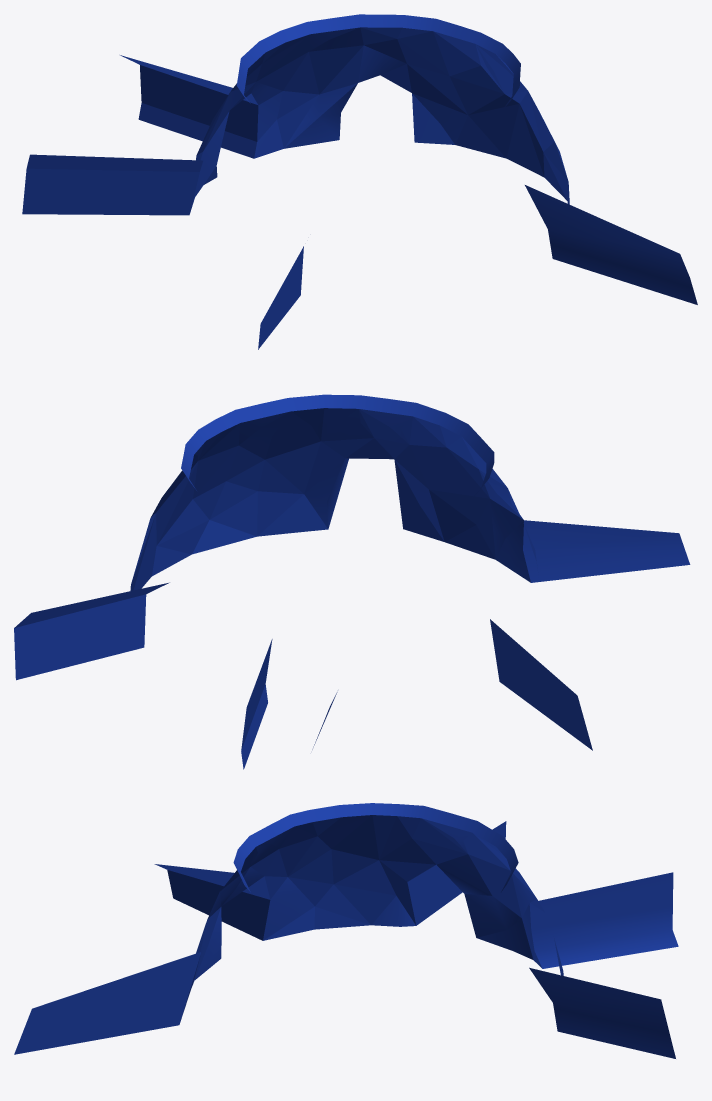
File: PBR - Metallic Roughness Alpha-blend.glb
3 renders of one model, top to bottom at view 1: azimuth 30°, elevation 25°; view 2: azimuth 150°, elevation 25°; view 3: azimuth 270°, elevation 25°, orthographic. The views are drawn at different scales.
Visible parts, largest first — view 1: pSphere1; view 2: pSphere1; view 3: pSphere1.
Part boxes in pixels (x1,y1,x2,y2): pSphere1: (22,14,697,349); pSphere1: (14,394,690,769); pSphere1: (14,803,678,1058).
Bounding box in the file's own units: 27.18 × 8.17 × 34.94.
Materials: 1 (1 with a texture image).
